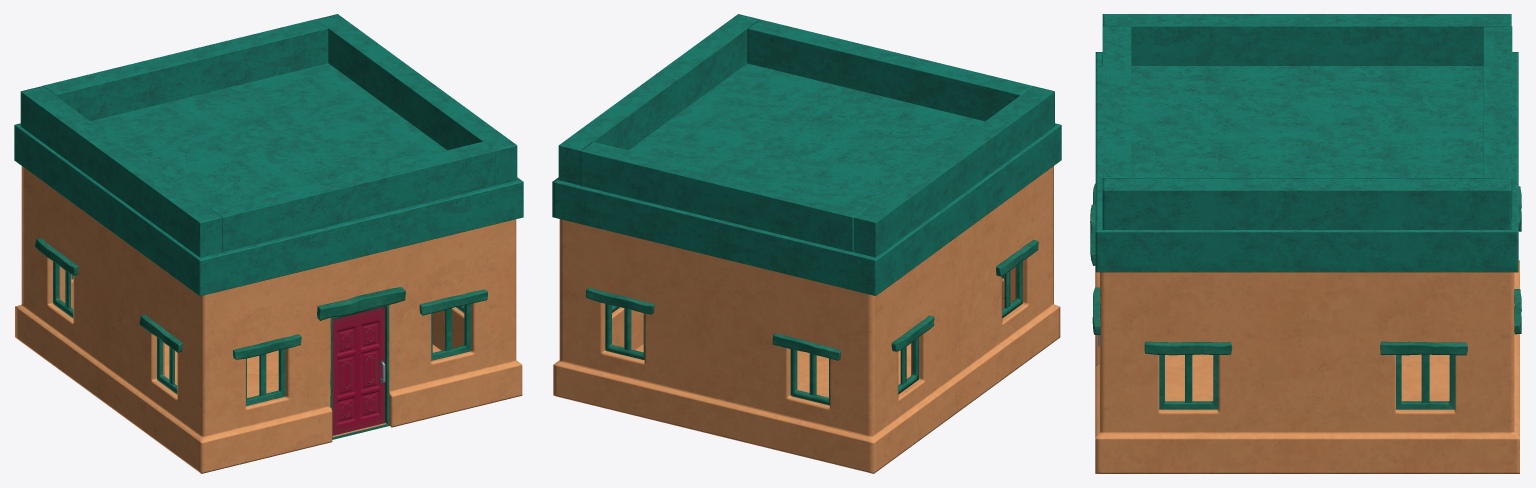
File: stylized_building_V3.fbx
3 views of the same model, side by side, from view 1: azimuth 30°, elevation 25°; view 2: azimuth 150°, elevation 25°; view 3: azimuth 270°, elevation 25° (orthographic). The views are drawn at different scales.
Parts seen in each view (by area): view 1: stylized_house_v3_roof, stylized_house_v3_bottom; view 2: stylized_house_v3_roof, stylized_house_v3_bottom; view 3: stylized_house_v3_roof, stylized_house_v3_bottom.
Boxes of the visible parts, box(x1,y1,x2,y2) form: stylized_house_v3_roof: box(14, 14, 523, 296); stylized_house_v3_bottom: box(15, 166, 522, 473); stylized_house_v3_roof: box(552, 14, 1061, 295); stylized_house_v3_bottom: box(553, 166, 1060, 473); stylized_house_v3_roof: box(1095, 14, 1518, 272); stylized_house_v3_bottom: box(1090, 183, 1521, 473).
Bounding box in the file's own units: 416 × 304 × 421.
Materials: 2 (2 with a texture image).
